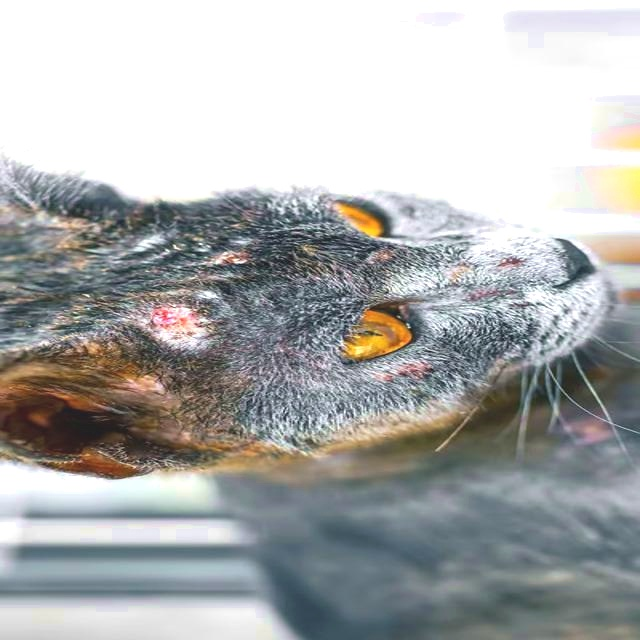ringworm: (155, 287, 224, 365), (214, 250, 250, 264)
